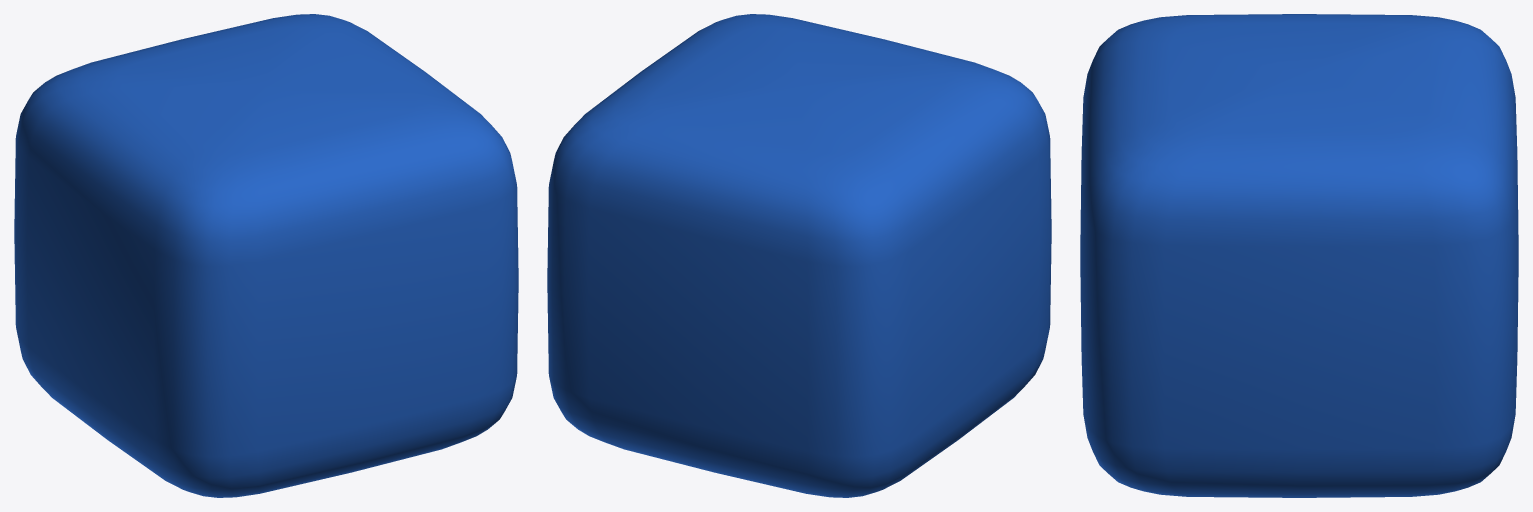
File: pufe_cubo_azul.glb
The picture shows the model from 3 angles, left to right: view 1: azimuth 30°, elevation 25°; view 2: azimuth 150°, elevation 25°; view 3: azimuth 270°, elevation 25°; orthographic projection. The views are drawn at different scales.
Visible parts, largest first — view 1: pufe_cubo_azul; view 2: pufe_cubo_azul; view 3: pufe_cubo_azul.
Part boxes in pixels (x1,y1,x2,y2): pufe_cubo_azul: [14, 14, 518, 497]; pufe_cubo_azul: [547, 14, 1051, 497]; pufe_cubo_azul: [1080, 14, 1518, 497].
Size of the model in its own units: 0.46 by 0.42 by 0.46.
Materials: 1 (1 with a texture image).
